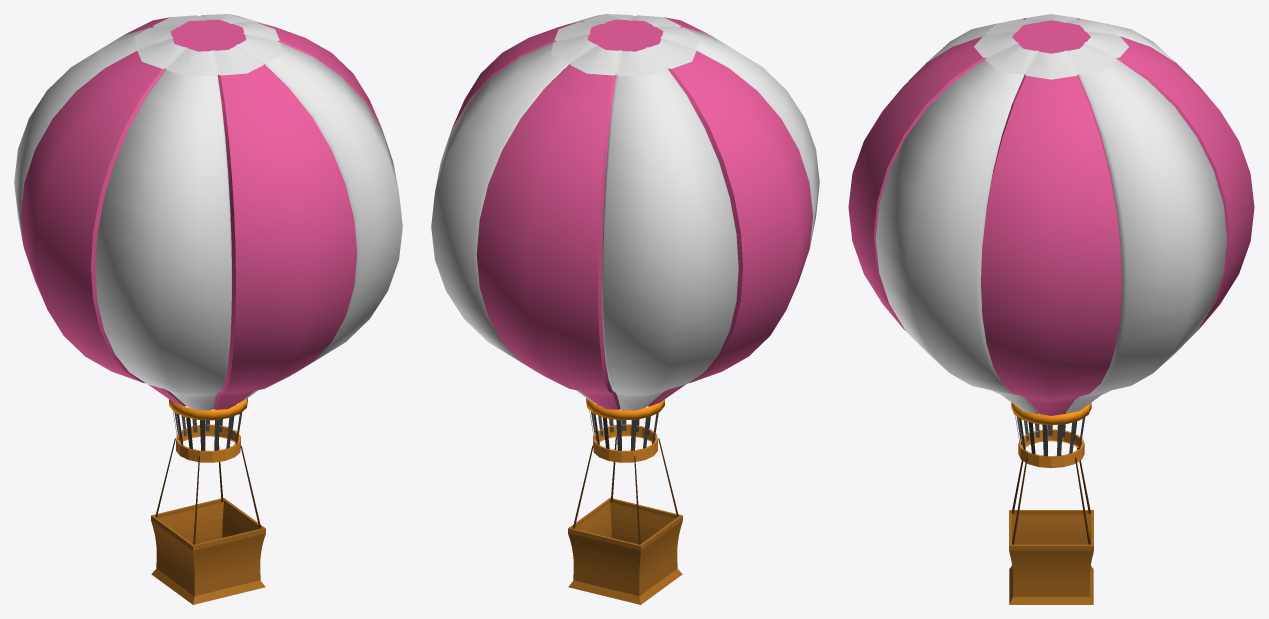
Rendered from hot_air_balloon.glb.
3 renders of one model, left to right at view 1: azimuth 30°, elevation 25°; view 2: azimuth 150°, elevation 25°; view 3: azimuth 270°, elevation 25°, orthographic.
Visible parts, largest first — view 1: Sphere.004, Sphere.003, Cube, Sphere.001, Cylinder, Sphere.002, Cylinder.001; view 2: Sphere.004, Sphere.003, Cube, Sphere.001, Cylinder, Sphere.002, Cylinder.001; view 3: Sphere.004, Sphere.003, Cube, Sphere.001, Cylinder, Sphere.002, Cylinder.001.
Boxes of the visible parts, x1,y1,x2,y2 form: Sphere.004: (14, 14, 402, 410); Sphere.003: (21, 17, 382, 409); Cube: (151, 497, 265, 604); Sphere.001: (176, 424, 240, 462); Cylinder: (173, 411, 242, 450); Sphere.002: (169, 398, 247, 420); Cylinder.001: (155, 438, 261, 544); Sphere.004: (431, 14, 819, 410); Sphere.003: (451, 17, 812, 409); Cube: (568, 497, 682, 604); Sphere.001: (593, 424, 657, 462); Cylinder: (589, 404, 658, 450); Sphere.002: (586, 398, 664, 420); Cylinder.001: (572, 437, 678, 544); Sphere.004: (875, 14, 1227, 413); Sphere.003: (848, 18, 1254, 415); Cube: (1009, 510, 1093, 604); Sphere.001: (1018, 429, 1084, 468); Cylinder: (1015, 413, 1085, 456); Sphere.002: (1011, 402, 1091, 425); Cylinder.001: (1011, 447, 1090, 544).
Bounding box in the file's own units: 212 × 316 × 212.
